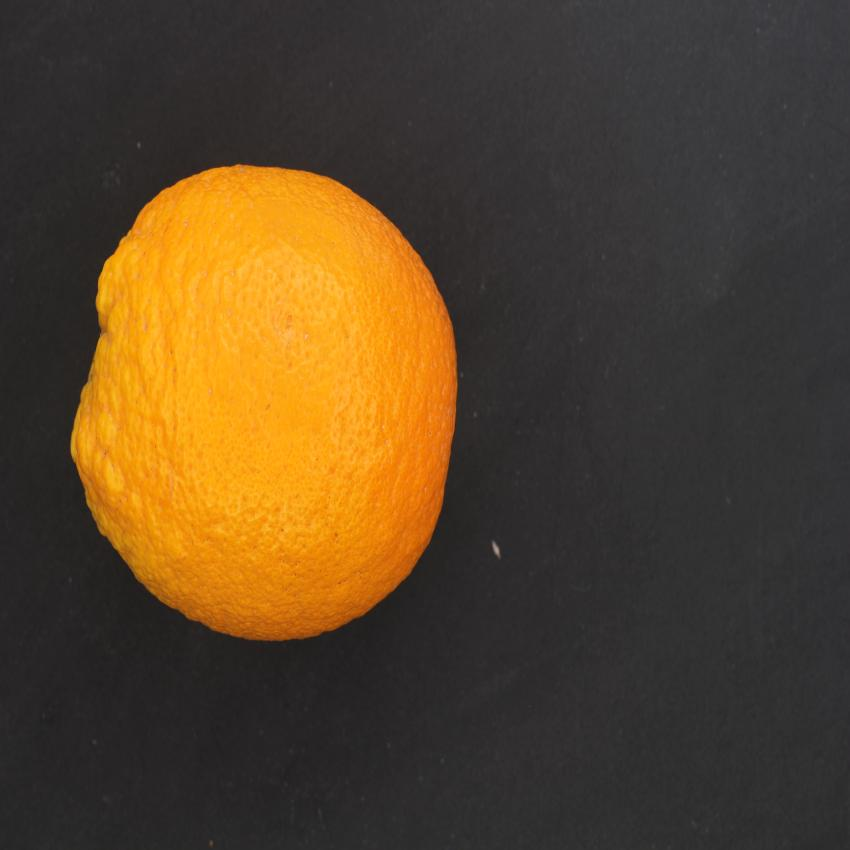Buen estado: (71, 146, 459, 666)
